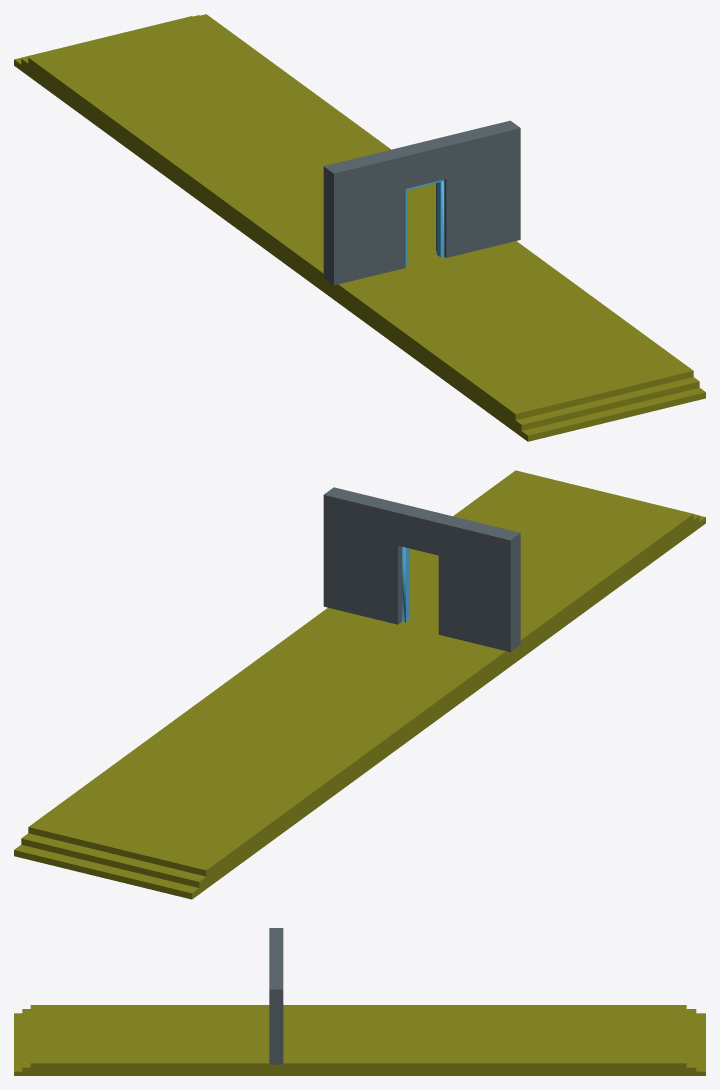
3 views of the same model, one above another, from view 1: azimuth 30°, elevation 25°; view 2: azimuth 150°, elevation 25°; view 3: azimuth 270°, elevation 25° (orthographic). The views are drawn at different scales.
Visible parts, largest first — view 1: BP05_F01_01; view 2: BP05_F01_01; view 3: BP05_F01_01.
Part boxes in pixels (bbox=[...]): BP05_F01_01: bbox=[14, 14, 705, 441]; BP05_F01_01: bbox=[14, 470, 705, 899]; BP05_F01_01: bbox=[14, 928, 705, 1075].
Size of the model in its own units: 525 by 350 by 2500.
